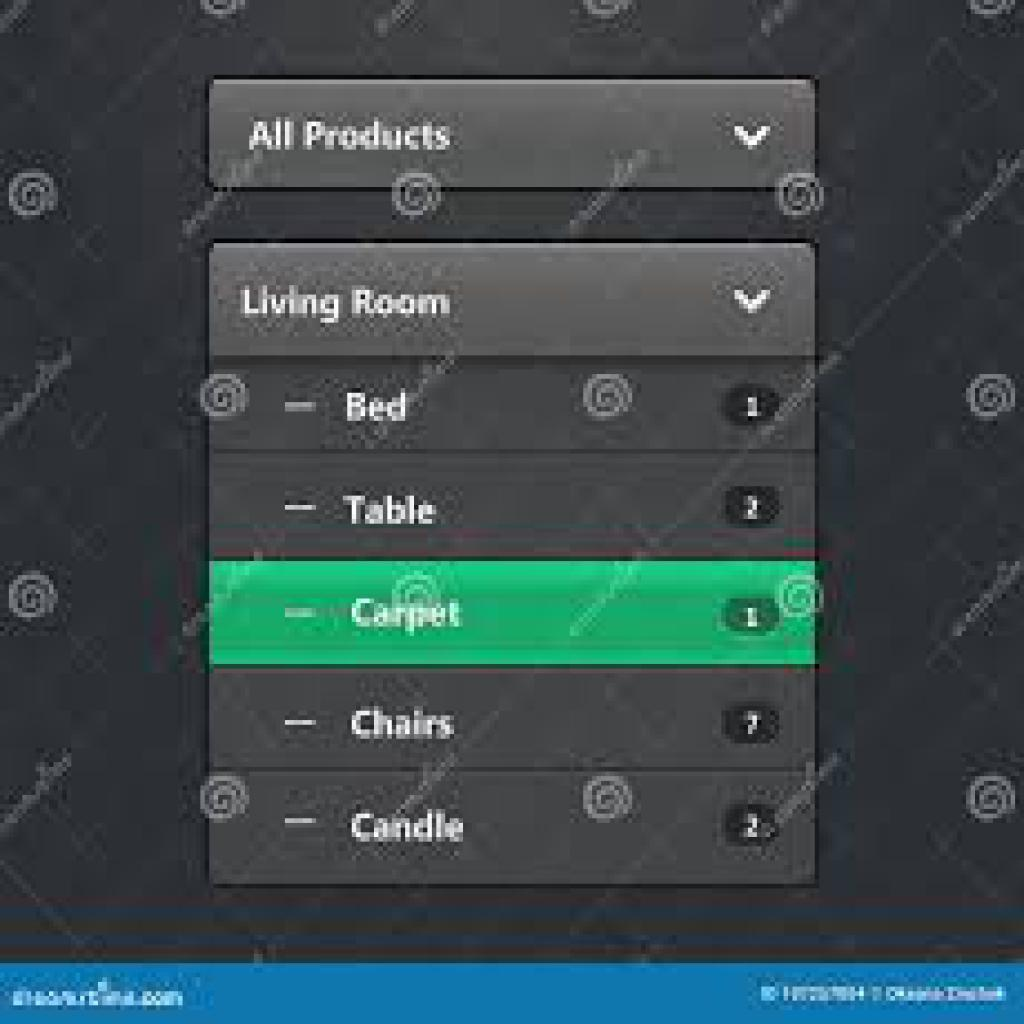button: (210, 562, 814, 664)
dropdown: (210, 245, 816, 357), (210, 84, 815, 190)
